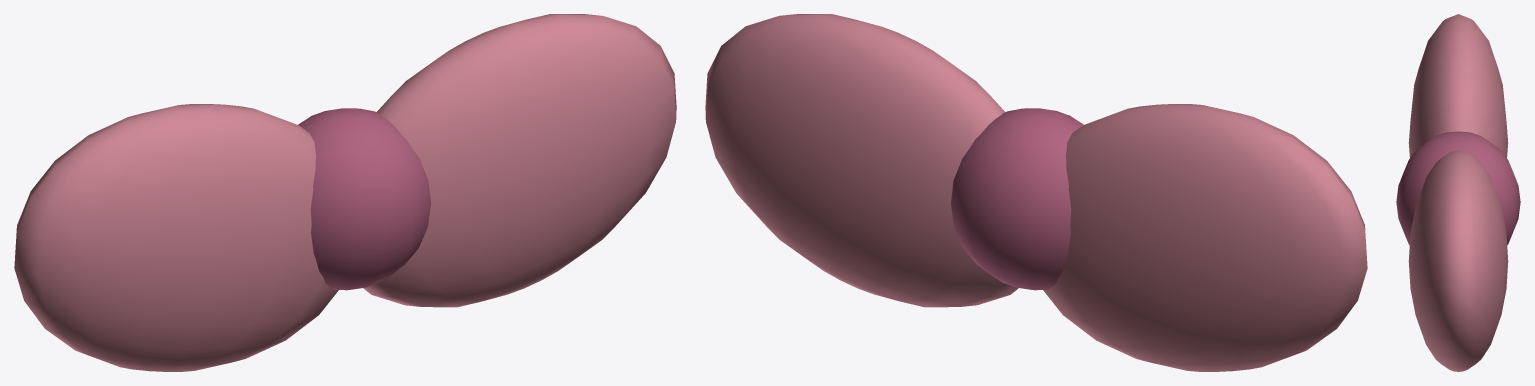
The model's file is objeto-bow.glb.
3 views of the same model, side by side, from view 1: azimuth 30°, elevation 25°; view 2: azimuth 150°, elevation 25°; view 3: azimuth 270°, elevation 25° (orthographic). The views are drawn at different scales.
Visible parts, largest first — view 1: equipment:bow; view 2: equipment:bow; view 3: equipment:bow.
Part boxes in pixels (bbox=[...]): equipment:bow: bbox=[14, 14, 676, 371]; equipment:bow: bbox=[705, 14, 1367, 371]; equipment:bow: bbox=[1396, 14, 1520, 371].
Size of the model in its own units: 0.3761 by 0.1438 by 0.08.
